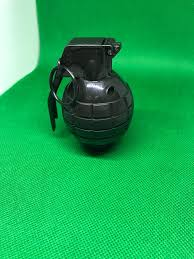e1: (48, 35, 134, 154)
